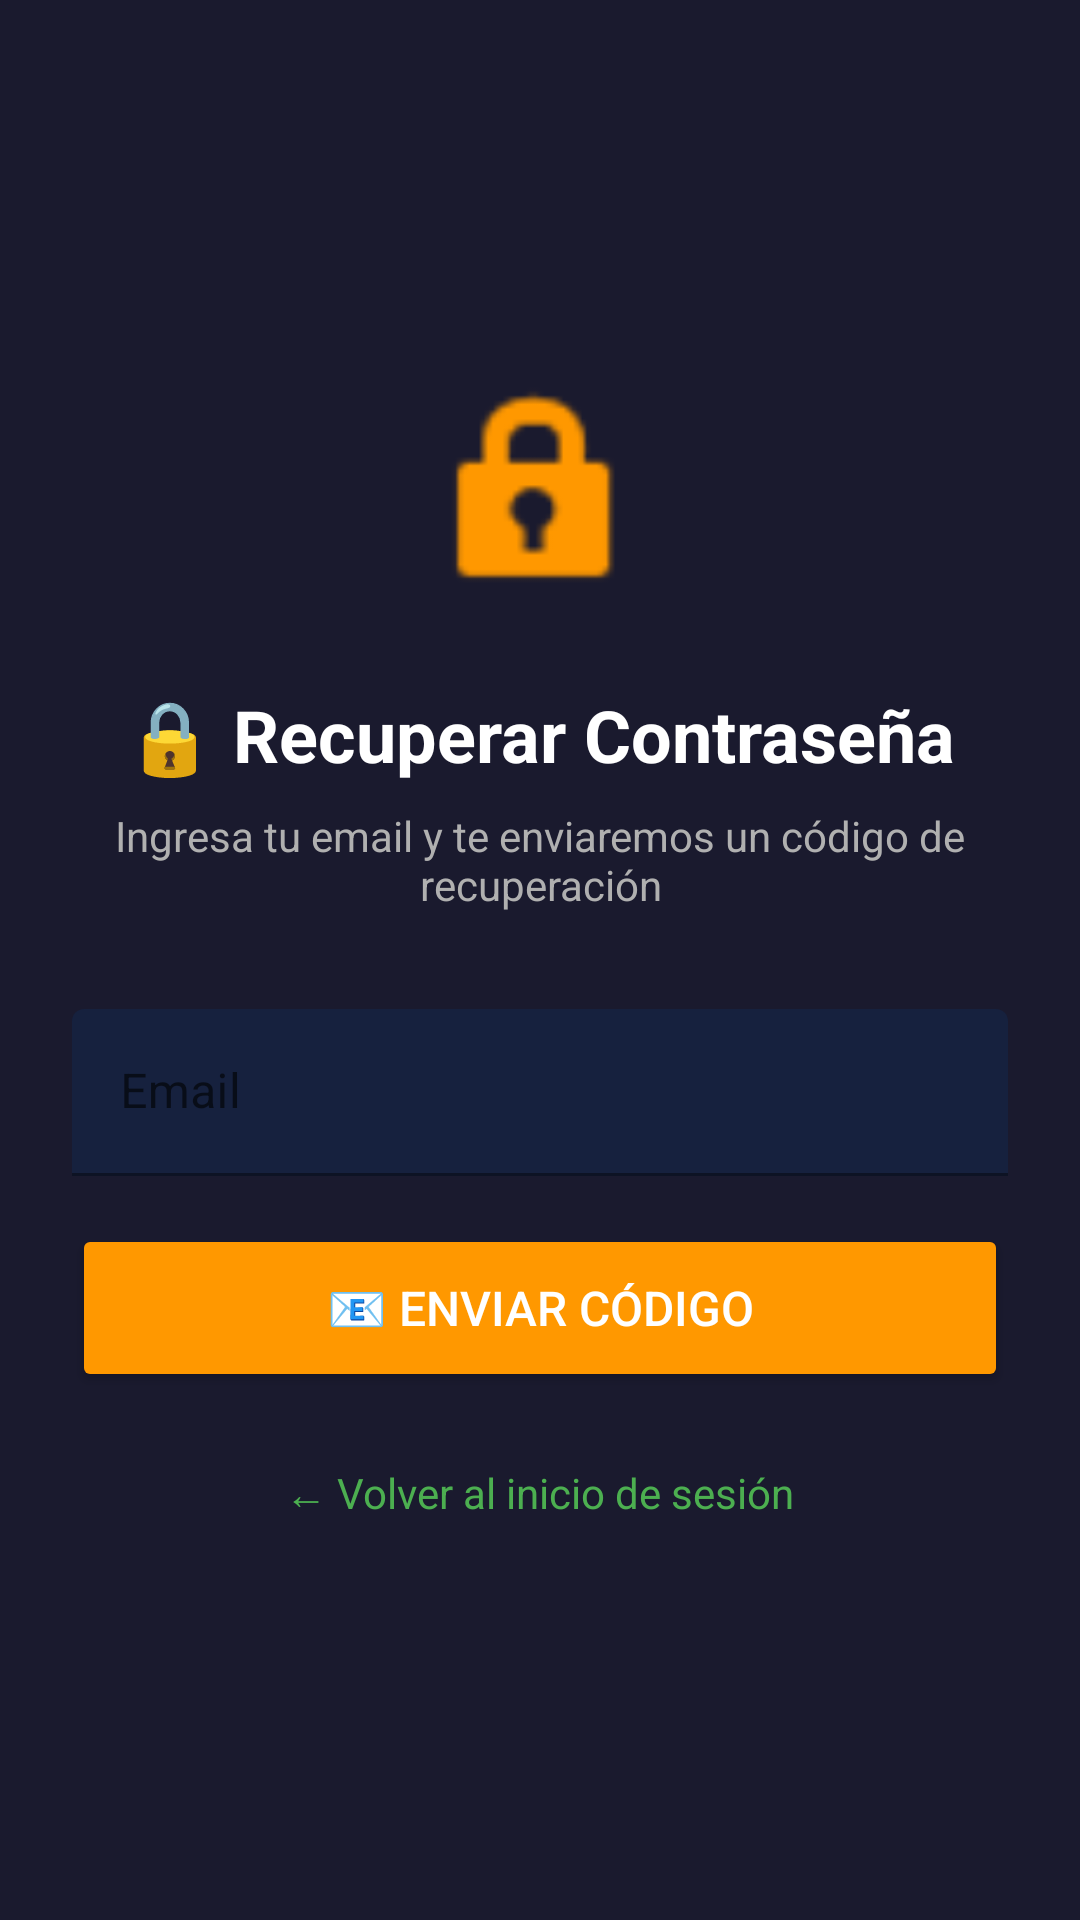

Screen size 1080x1920. Icon name, then its center in pixels as (x=x, y=y):
lock idle: (x=534, y=486)
